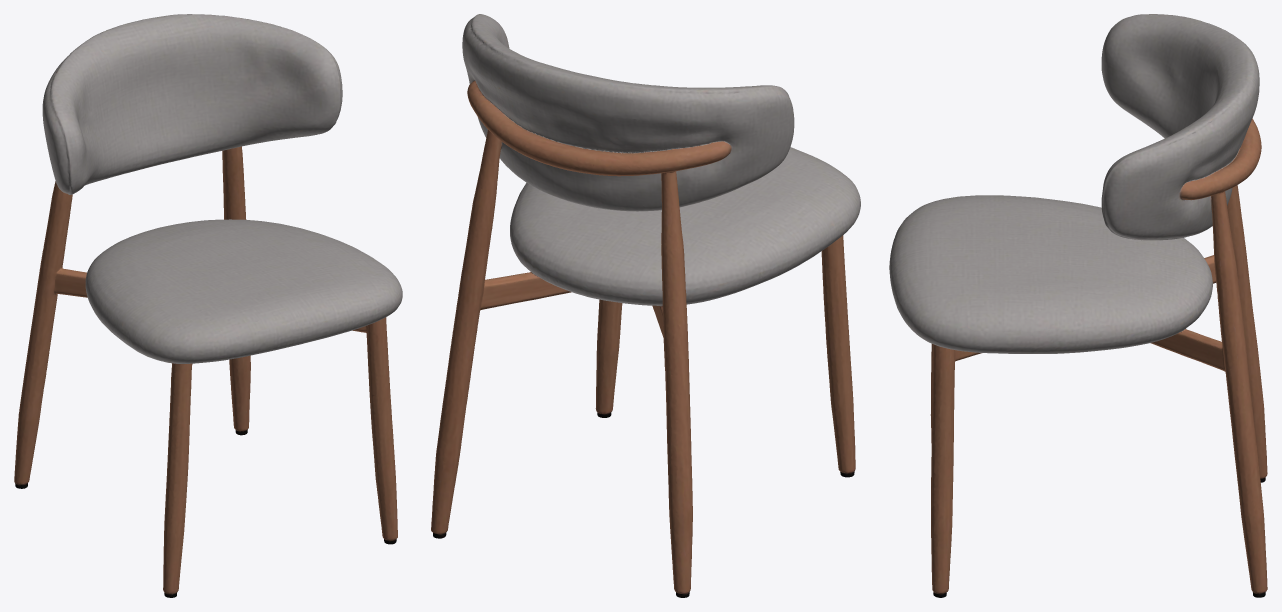
The model's file is chair.glb.
3 views of the same model, side by side, from view 1: azimuth 30°, elevation 25°; view 2: azimuth 150°, elevation 25°; view 3: azimuth 270°, elevation 25° (orthographic). The views are drawn at different scales.
Visible parts, largest first — view 1: world; view 2: world; view 3: world.
Part boxes in pixels (box(x1,y1,x2,y2)): world: box(14, 14, 402, 597); world: box(431, 14, 860, 597); world: box(889, 14, 1267, 597).
Bounding box in the file's own units: 0.6794 × 1 × 0.7281.
Materials: 1 (1 with a texture image).
